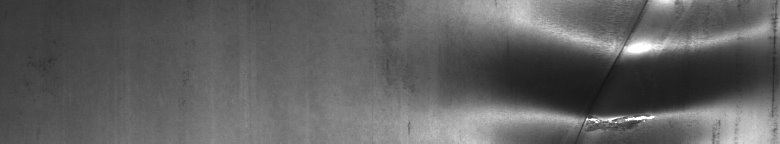ke: (533, 28, 775, 136)
